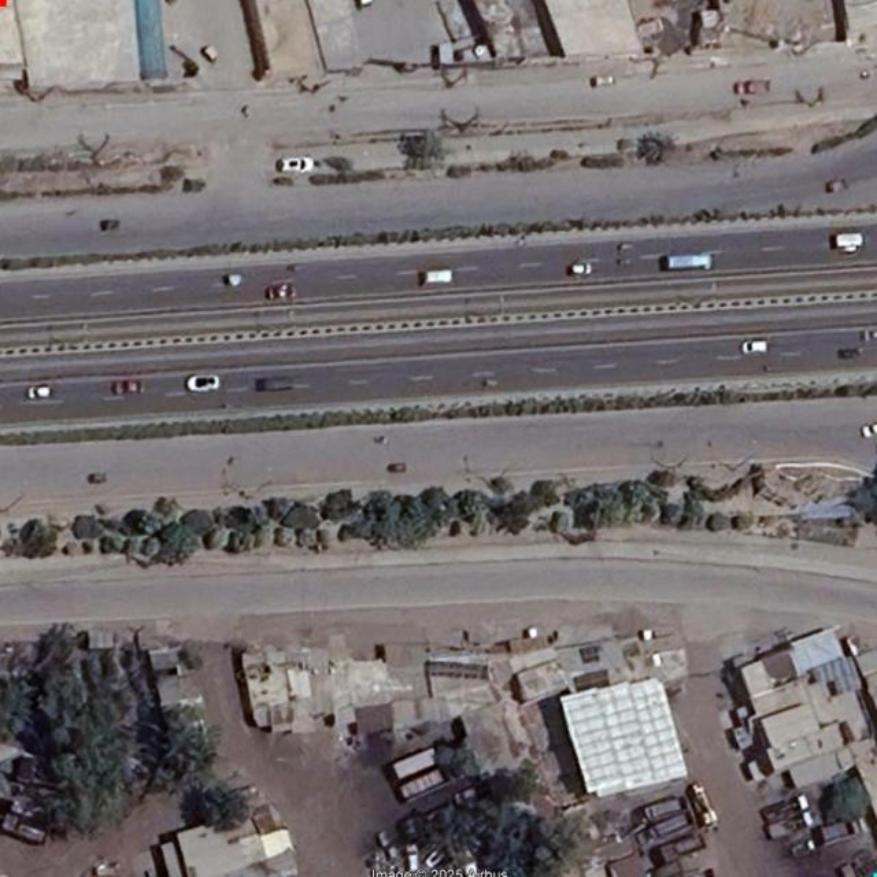Solarpanel: (423, 661, 489, 681)
